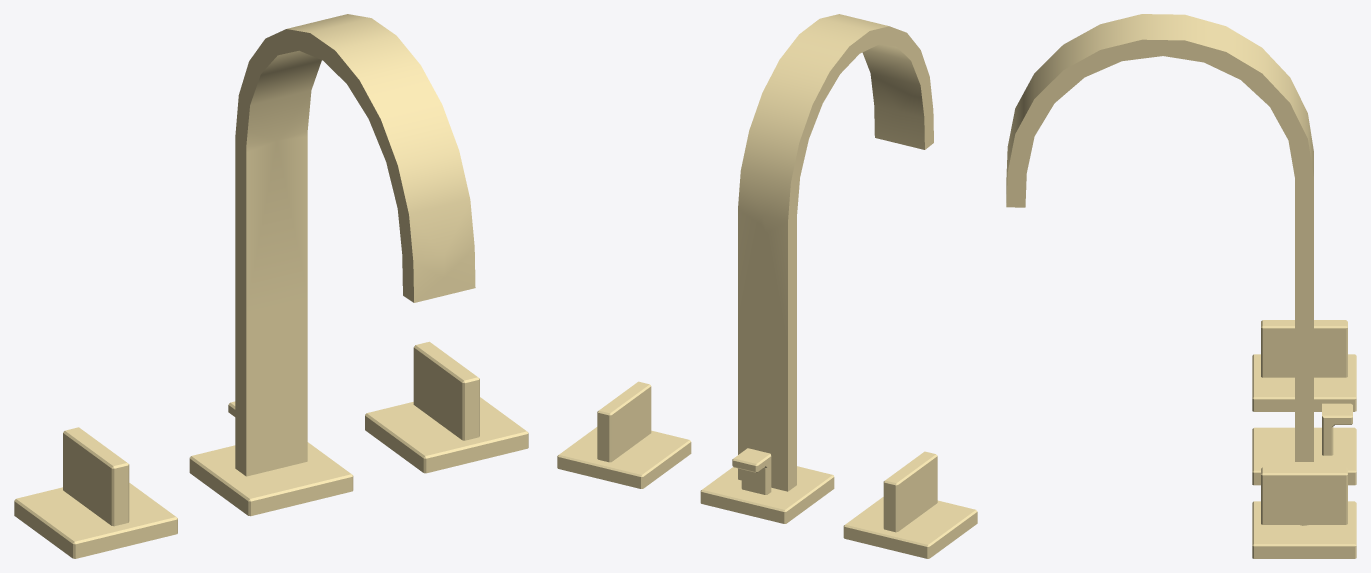
The picture shows the model from 3 angles, left to right: view 1: azimuth 30°, elevation 25°; view 2: azimuth 150°, elevation 25°; view 3: azimuth 270°, elevation 25°; orthographic projection. The views are drawn at different scales.
Parts seen in each view (by area): view 1: L_b2653e0c_0c1b_4afa_b179_a100e2754c42_I4, L_d63beaa5_5093_45a0_8307_44571692b817_I7, L_3785508a_79cd_4839_a689_5a42cbaba646_I1, L_bd1647f2_8e75_4fcd_b62d_1c48f6462ca2_I5, L_8cdfe9f2_79c1_4aed_a39c_5b82dff61786_I3, L_83032521_fcc8_4c0c_b20b_bb2cc9e4b036_I2; view 2: L_b2653e0c_0c1b_4afa_b179_a100e2754c42_I4, L_3785508a_79cd_4839_a689_5a42cbaba646_I1, L_d63beaa5_5093_45a0_8307_44571692b817_I7, L_bd1647f2_8e75_4fcd_b62d_1c48f6462ca2_I5, L_83032521_fcc8_4c0c_b20b_bb2cc9e4b036_I2, L_8cdfe9f2_79c1_4aed_a39c_5b82dff61786_I3, L_e9e7b5d0_f624_4136_a8f6_75c0ba0f1bef_I9; view 3: L_b2653e0c_0c1b_4afa_b179_a100e2754c42_I4, L_83032521_fcc8_4c0c_b20b_bb2cc9e4b036_I2, L_3785508a_79cd_4839_a689_5a42cbaba646_I1, L_8cdfe9f2_79c1_4aed_a39c_5b82dff61786_I3, L_bd1647f2_8e75_4fcd_b62d_1c48f6462ca2_I5, L_d63beaa5_5093_45a0_8307_44571692b817_I7, L_e9e7b5d0_f624_4136_a8f6_75c0ba0f1bef_I9.
Boxes of the visible parts, x1,y1,x2,y2 form: L_b2653e0c_0c1b_4afa_b179_a100e2754c42_I4: [235, 14, 475, 476]; L_d63beaa5_5093_45a0_8307_44571692b817_I7: [14, 483, 177, 558]; L_3785508a_79cd_4839_a689_5a42cbaba646_I1: [365, 397, 528, 473]; L_bd1647f2_8e75_4fcd_b62d_1c48f6462ca2_I5: [189, 442, 353, 516]; L_8cdfe9f2_79c1_4aed_a39c_5b82dff61786_I3: [63, 427, 129, 526]; L_83032521_fcc8_4c0c_b20b_bb2cc9e4b036_I2: [413, 341, 479, 440]; L_b2653e0c_0c1b_4afa_b179_a100e2754c42_I4: [738, 14, 933, 491]; L_3785508a_79cd_4839_a689_5a42cbaba646_I1: [557, 427, 691, 488]; L_d63beaa5_5093_45a0_8307_44571692b817_I7: [843, 497, 977, 558]; L_bd1647f2_8e75_4fcd_b62d_1c48f6462ca2_I5: [700, 466, 834, 523]; L_83032521_fcc8_4c0c_b20b_bb2cc9e4b036_I2: [597, 381, 651, 462]; L_8cdfe9f2_79c1_4aed_a39c_5b82dff61786_I3: [883, 451, 937, 532]; L_e9e7b5d0_f624_4136_a8f6_75c0ba0f1bef_I9: [732, 448, 771, 494]; L_b2653e0c_0c1b_4afa_b179_a100e2754c42_I4: [1006, 14, 1313, 461]; L_83032521_fcc8_4c0c_b20b_bb2cc9e4b036_I2: [1261, 467, 1347, 524]; L_3785508a_79cd_4839_a689_5a42cbaba646_I1: [1252, 501, 1356, 558]; L_8cdfe9f2_79c1_4aed_a39c_5b82dff61786_I3: [1261, 320, 1347, 377]; L_bd1647f2_8e75_4fcd_b62d_1c48f6462ca2_I5: [1252, 427, 1356, 485]; L_d63beaa5_5093_45a0_8307_44571692b817_I7: [1252, 354, 1356, 411]; L_e9e7b5d0_f624_4136_a8f6_75c0ba0f1bef_I9: [1322, 403, 1352, 455].
Size of the model in its own units: 0.26 by 0.2766 by 0.2012.
